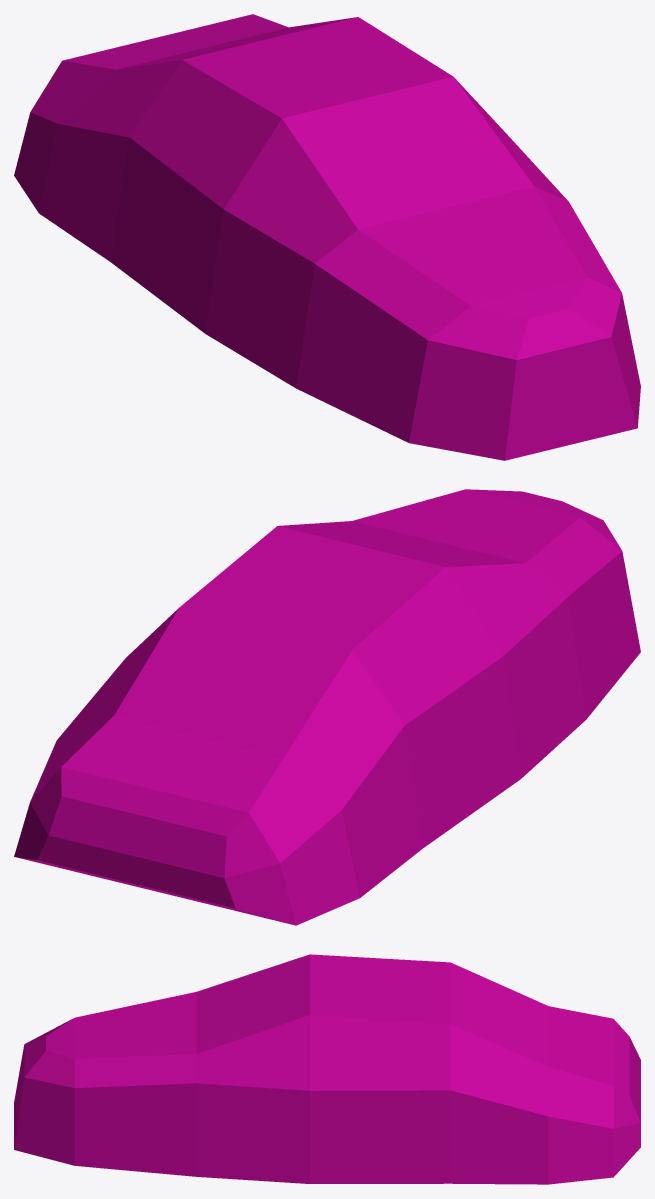
The model's file is SM_Veh_Stock_Car_01_Collision.fbx.
3 views of the same model, one above another, from view 1: azimuth 30°, elevation 25°; view 2: azimuth 150°, elevation 25°; view 3: azimuth 270°, elevation 25° (orthographic). The views are drawn at different scales.
Visible parts, largest first — view 1: SM_Veh_Stock_Car_01_Collision; view 2: SM_Veh_Stock_Car_01_Collision; view 3: SM_Veh_Stock_Car_01_Collision.
Part boxes in pixels (x1,y1,x2,y2): SM_Veh_Stock_Car_01_Collision: (14,14,640,460); SM_Veh_Stock_Car_01_Collision: (14,489,640,925); SM_Veh_Stock_Car_01_Collision: (14,954,640,1184).
Size of the model in its own units: 233 by 134 by 534.
